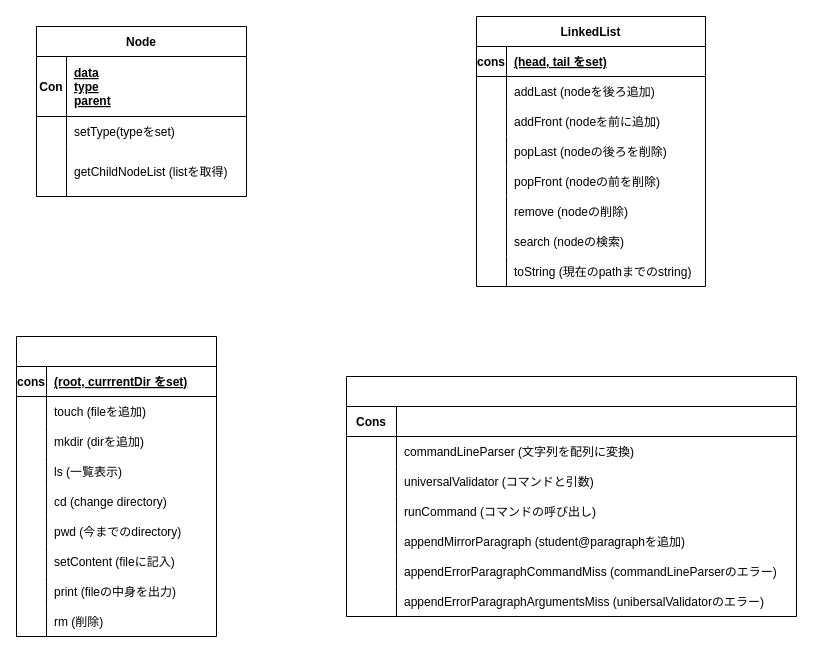
Some shapes in this 813 by 653 pixel diagram are drawn without their labels. Each missing label, with the box of its shape:
Controller: (346, 376, 796, 616)
FileSystem: (16, 336, 216, 636)
